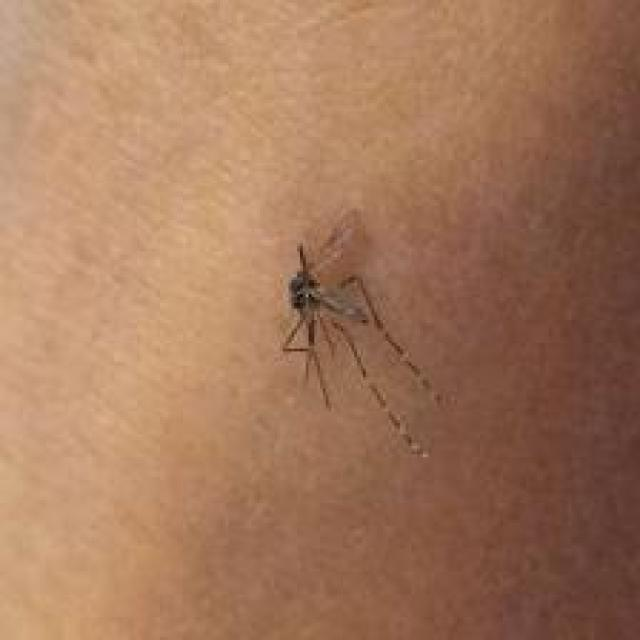Aedes albopictus: (277, 207, 443, 459)
